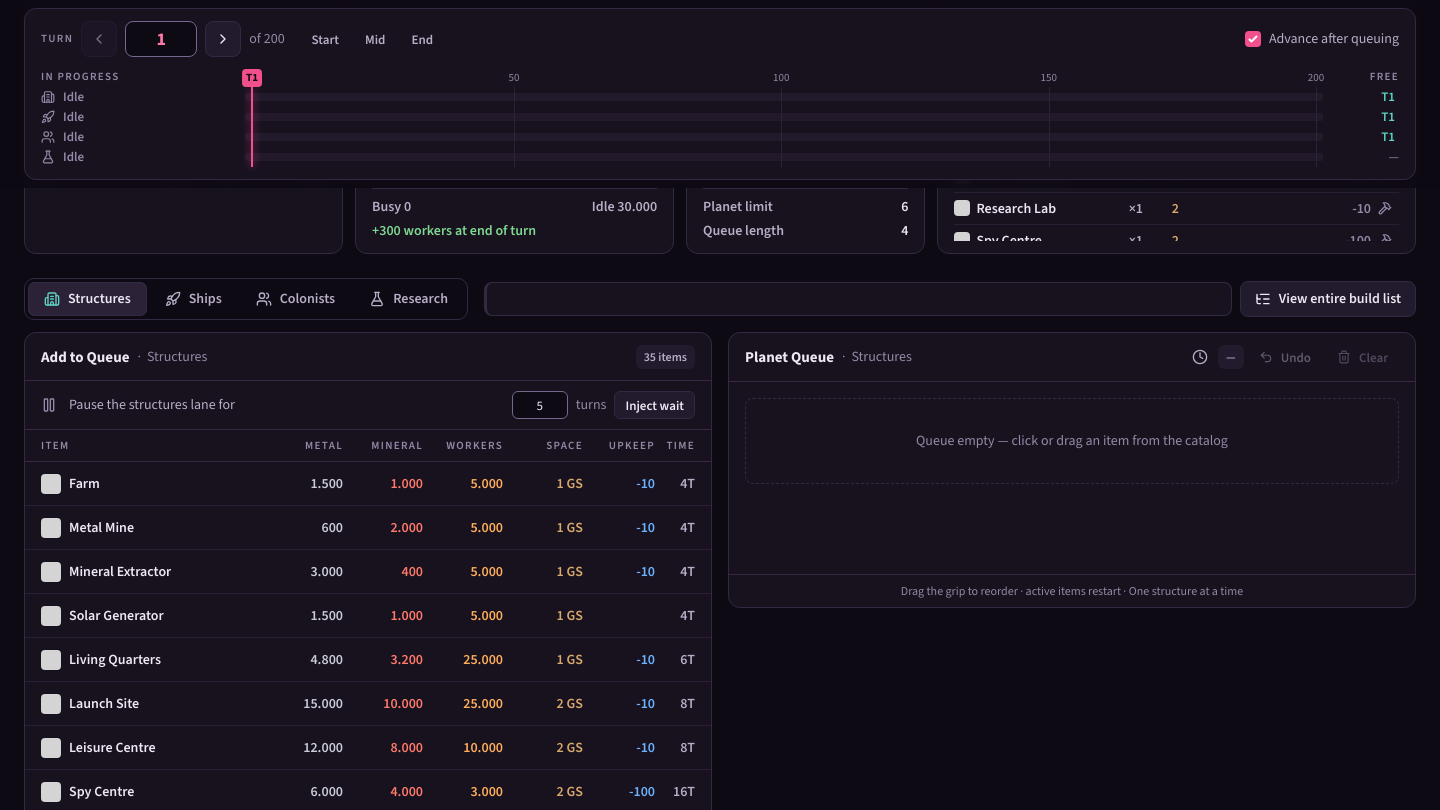
Test case: Home page › reveals the extended turn modal after the wait code sequence
The image size is (1440, 810).
(page scrolled)
Step 1. Replace the text in the field showing "5" with "99" → point(540, 405), box [512, 391, 568, 419]
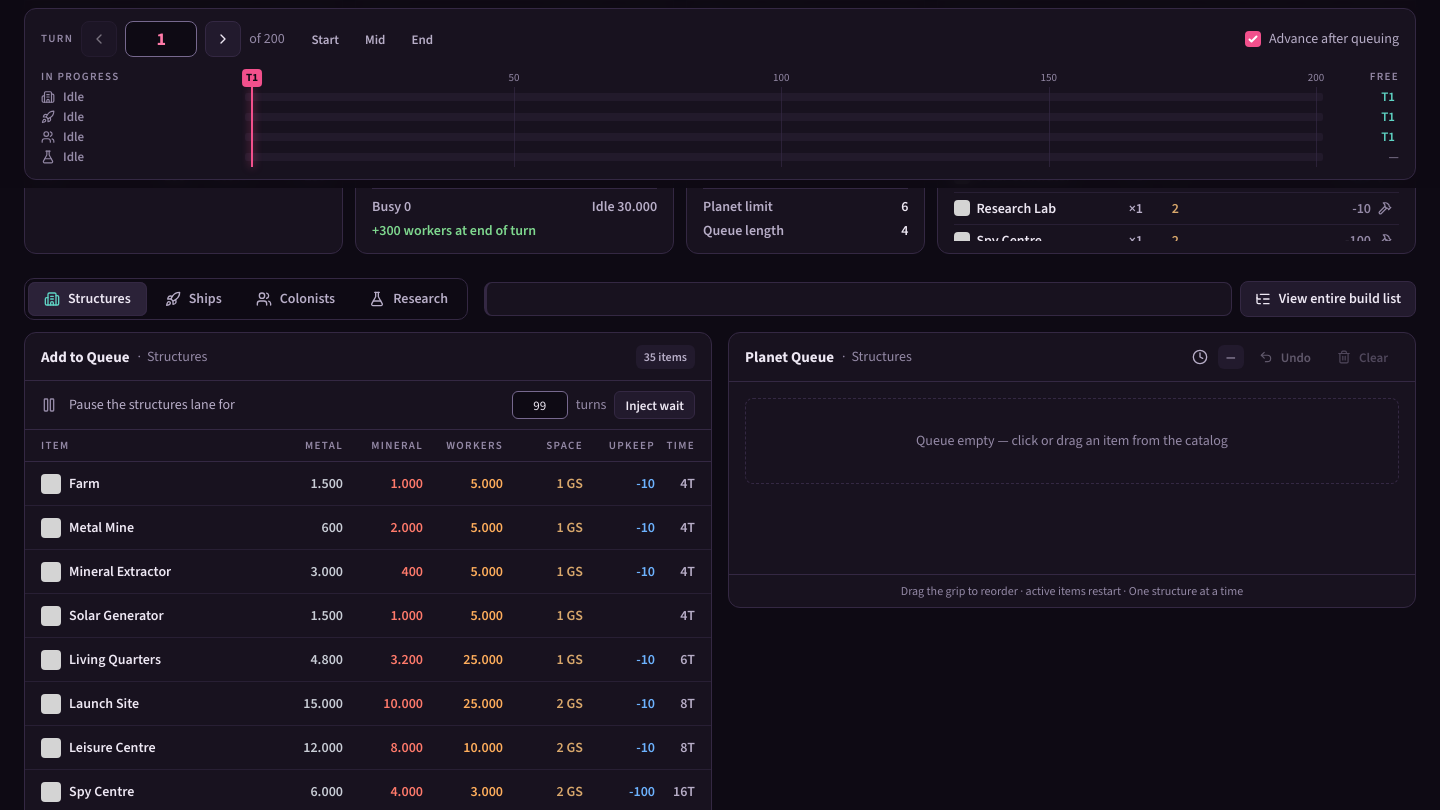
Step 2. Click the button "Inject wait" → point(655, 405), box [614, 391, 695, 419]
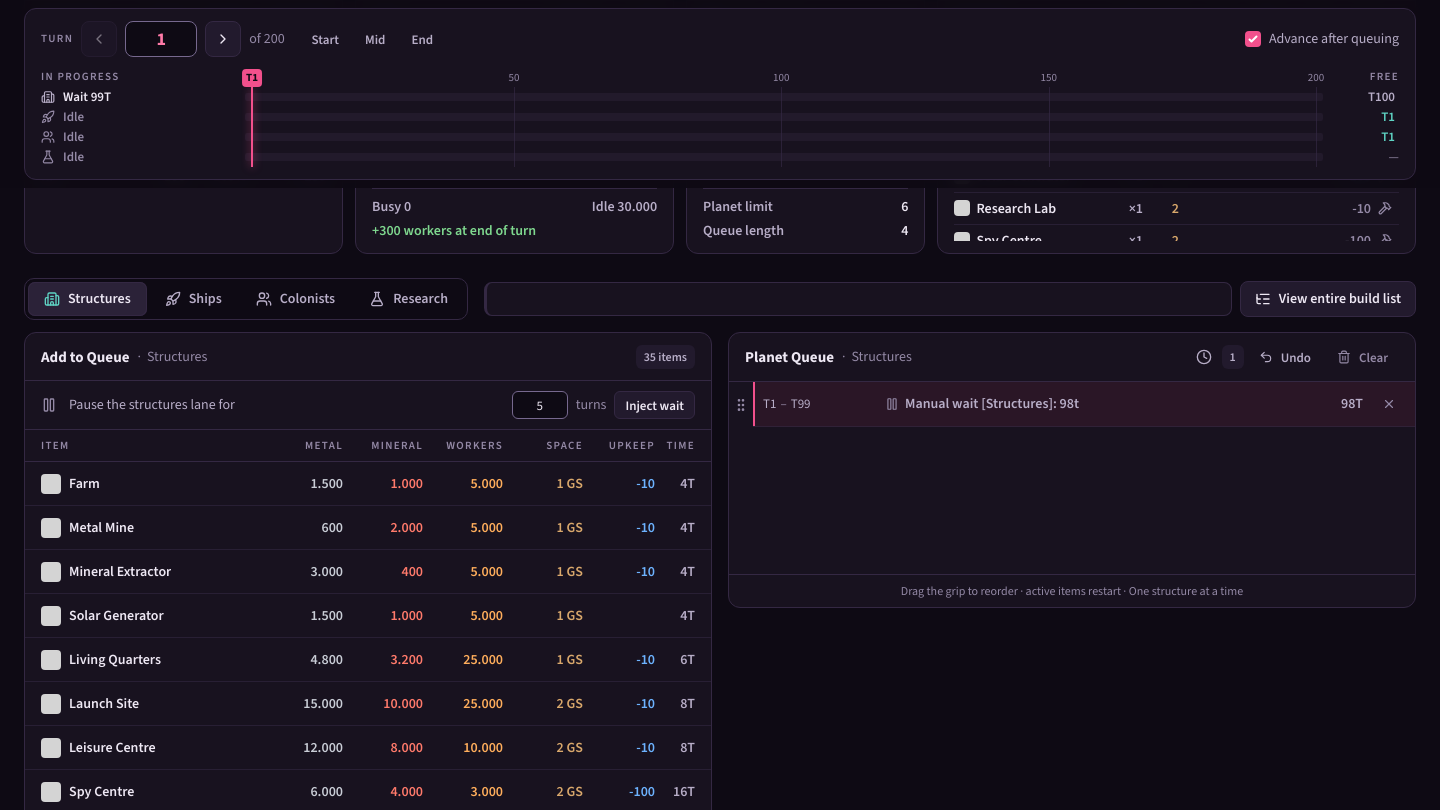
Step 3. Replace the text in the field showing "5" with "67" → point(540, 405), box [512, 391, 568, 419]
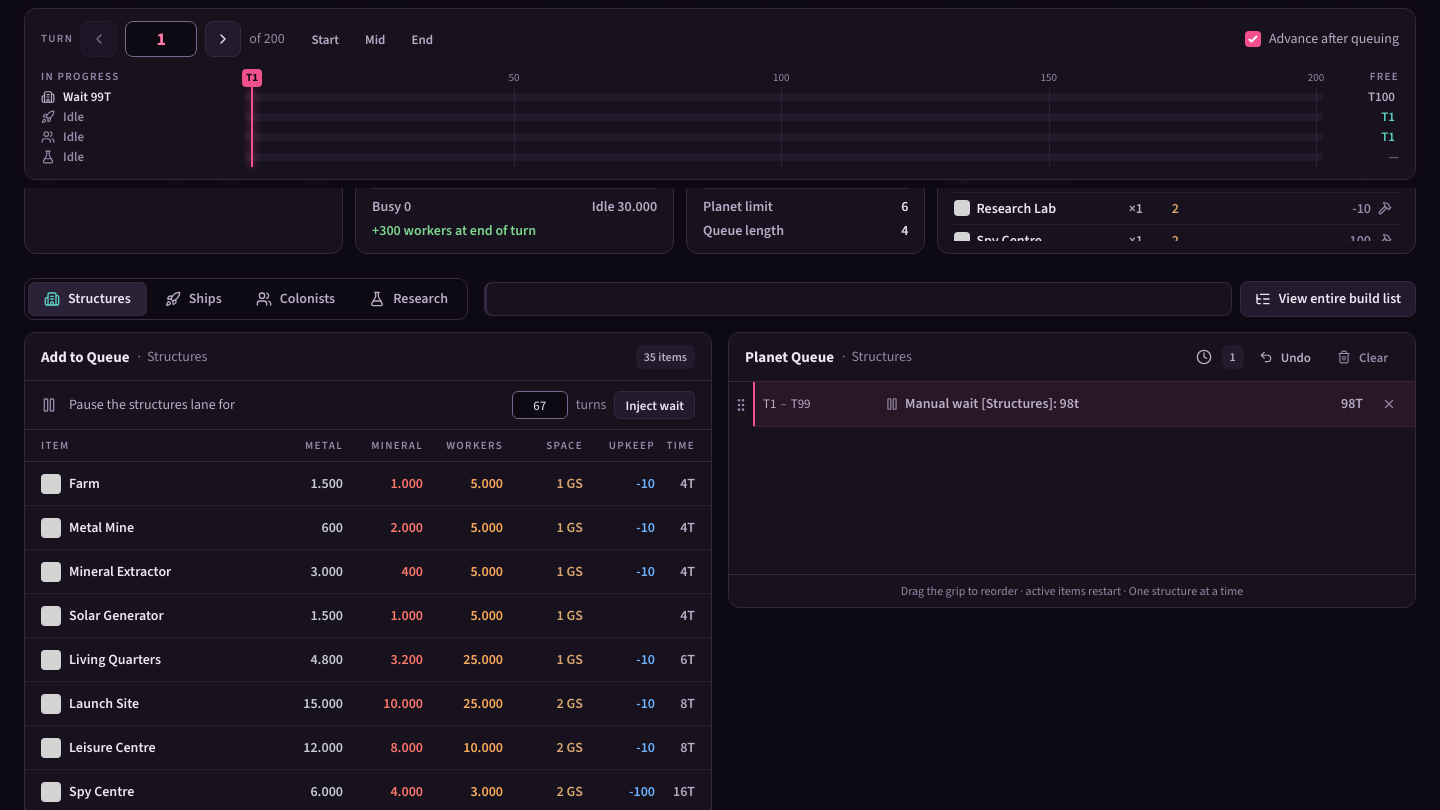
Step 4. Click the button "Inject wait" → point(655, 405), box [614, 391, 695, 419]
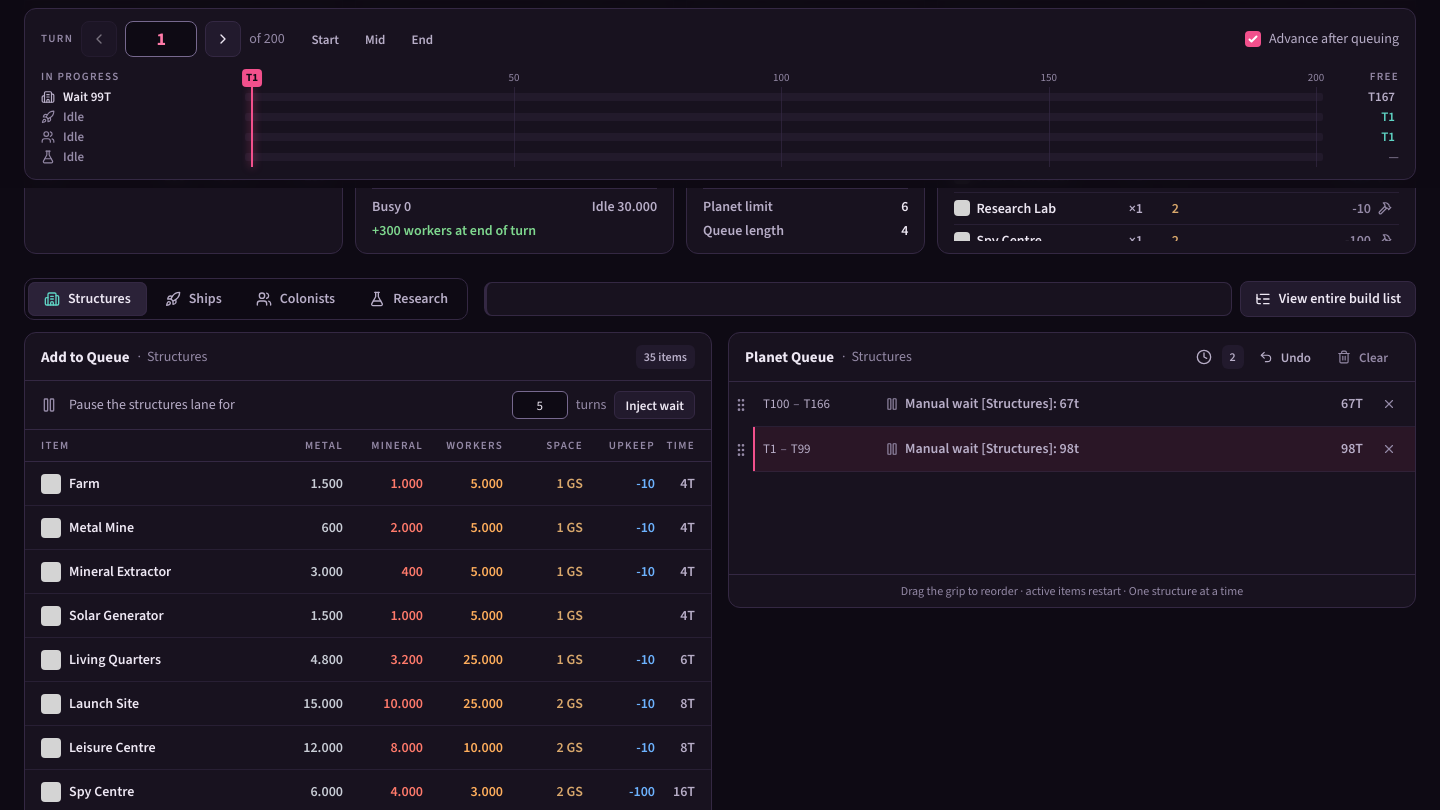
Step 5. Replace the text in the number field named "Turn" with "123" → point(161, 39), box [125, 21, 197, 57]
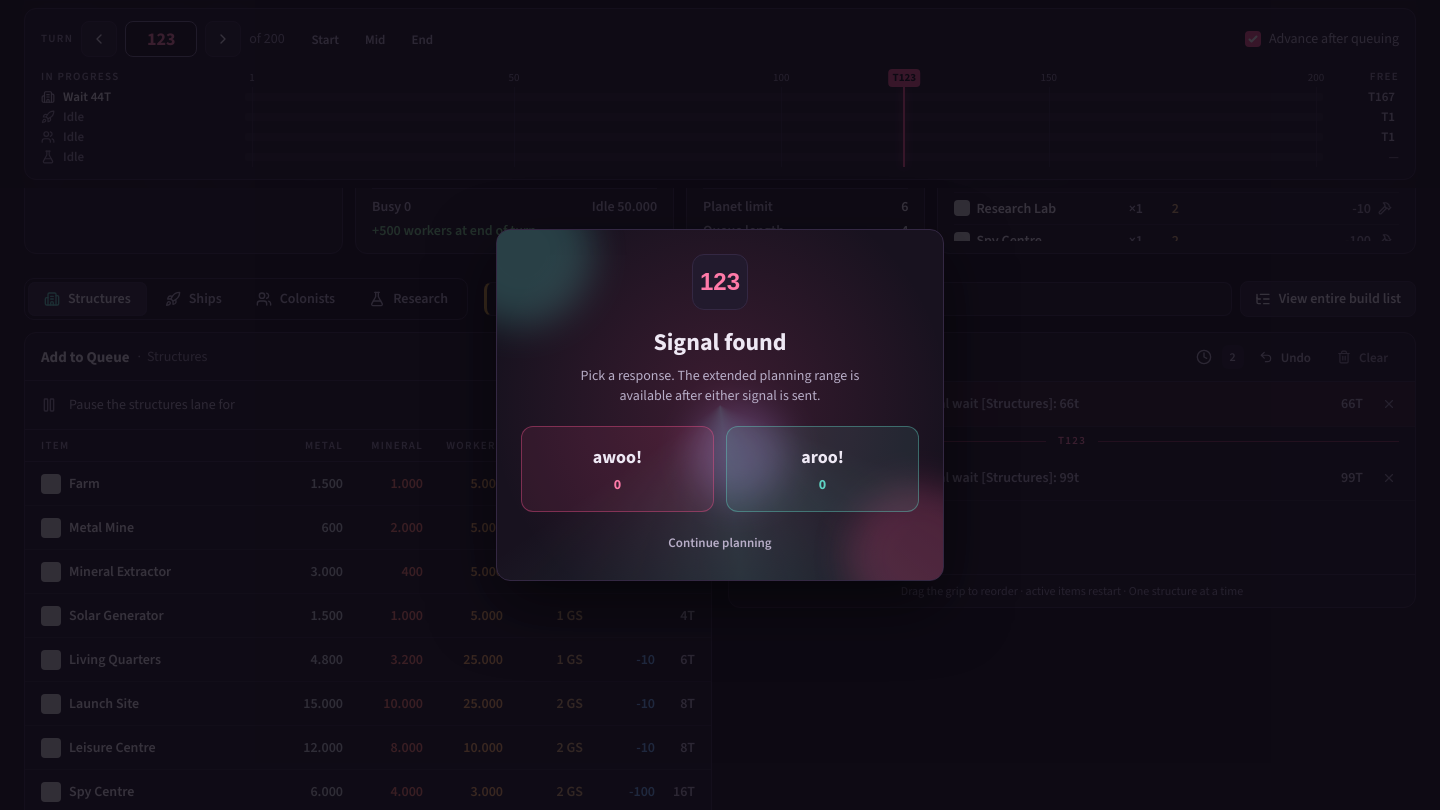
Expected: the dialog "Signal found" is shown
Step 6. Click the button "awoo! 0" → point(618, 469), box [521, 426, 714, 512]
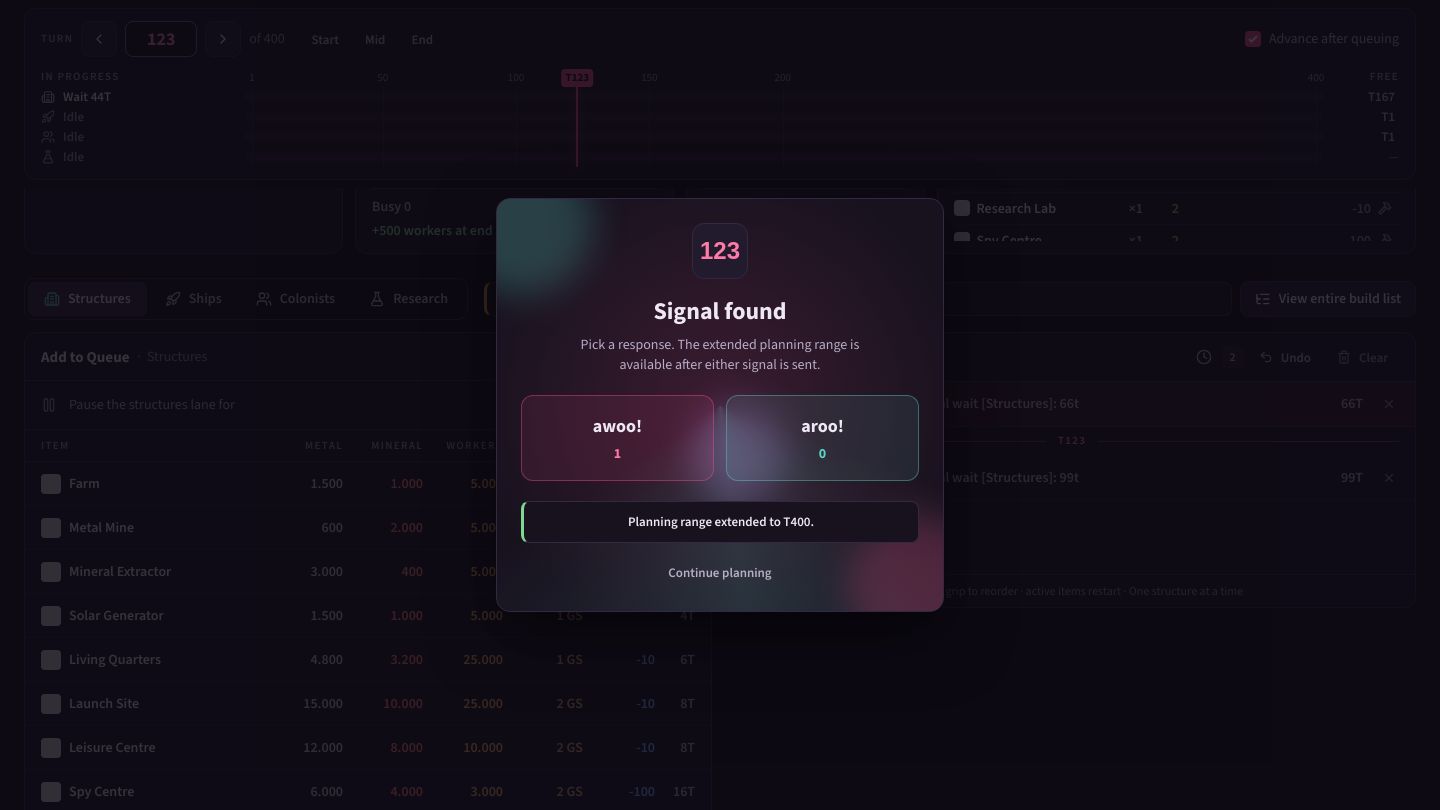
Expected: the text "Planning range extended to T400." is shown, [521, 501, 919, 543]
